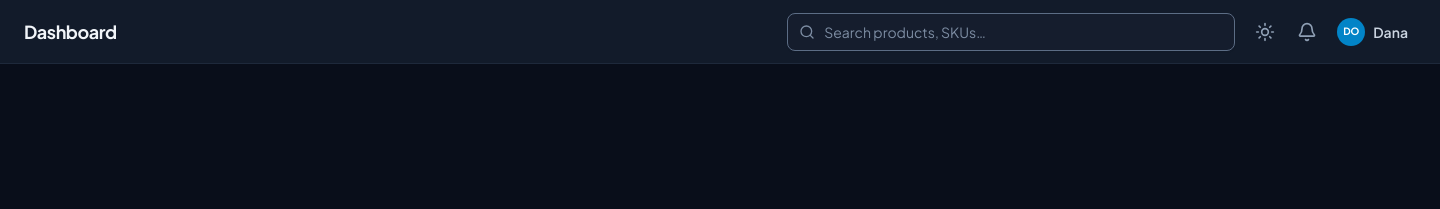
Test: overlays under the dark theme › opens and closes the header dropdown, which is the app’s main overlay
Expected: the text "Notifications" is not shown
Click the button named "Notifications" at coordinates (1307, 32), box 1289,14 -> 1325,50
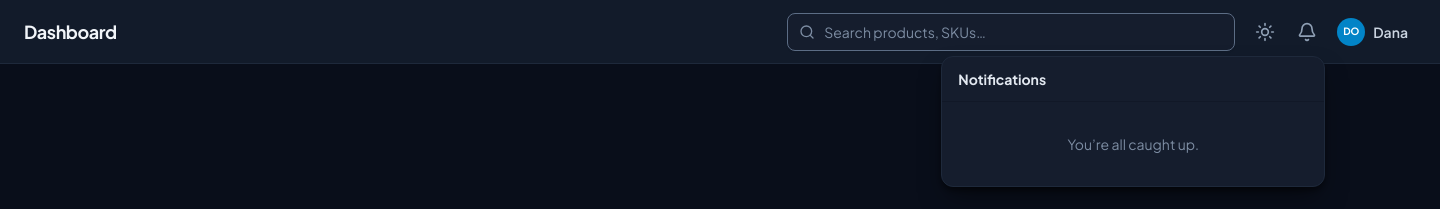
Expected: the text "You’re all caught up." is shown, 1068,134 -> 1199,152
Press the mouse on the element showing "Dashboard Notifications You’re all caught up. DO Dana" at coordinates (720, 32), box 0,0 -> 1439,64
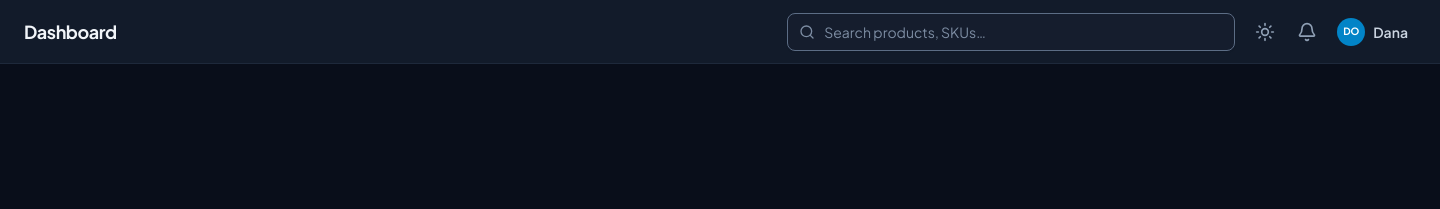
Expected: the text "You’re all caught up." is gone
